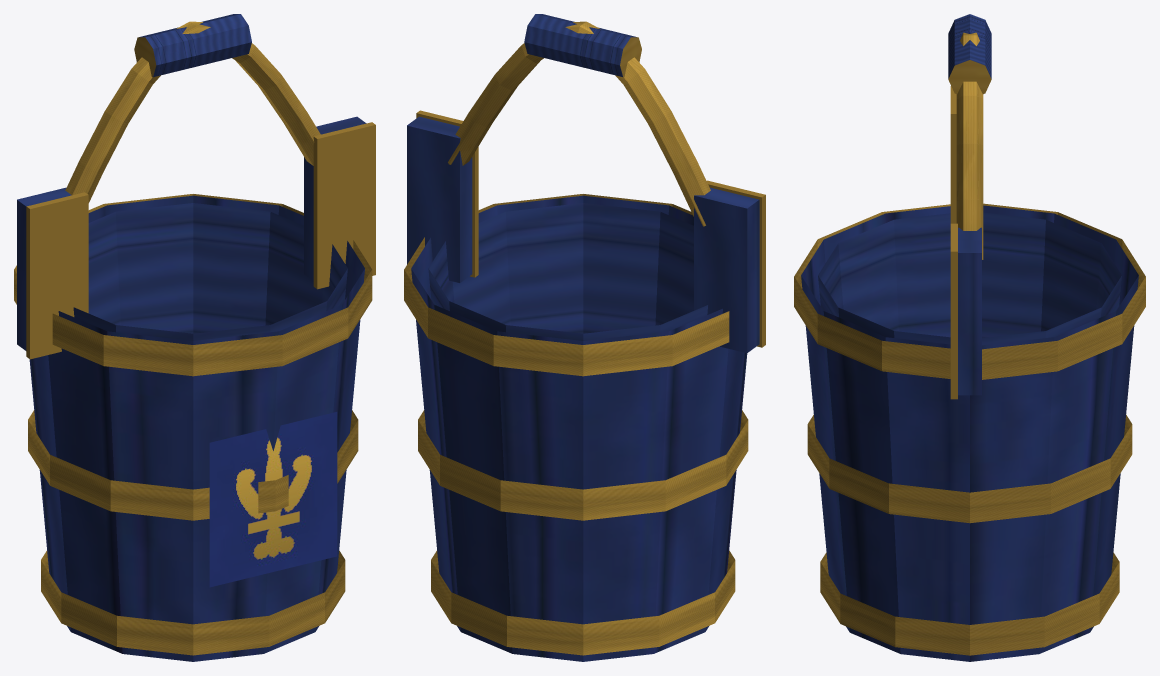
The model's file is prop_emmer_blue.glb.
The picture shows the model from 3 angles, left to right: view 1: azimuth 30°, elevation 25°; view 2: azimuth 150°, elevation 25°; view 3: azimuth 270°, elevation 25°; orthographic projection.
Parts seen in each view (by area): view 1: prop_emmer_blue; view 2: prop_emmer_blue; view 3: prop_emmer_blue.
Boxes of the visible parts, box(x1,y1,x2,y2) form: prop_emmer_blue: box(14, 14, 375, 661); prop_emmer_blue: box(404, 14, 765, 661); prop_emmer_blue: box(794, 14, 1145, 661).
Bounding box in the file's own units: 0.325 × 0.5195 × 0.2915.
Materials: 1 (1 with a texture image).
